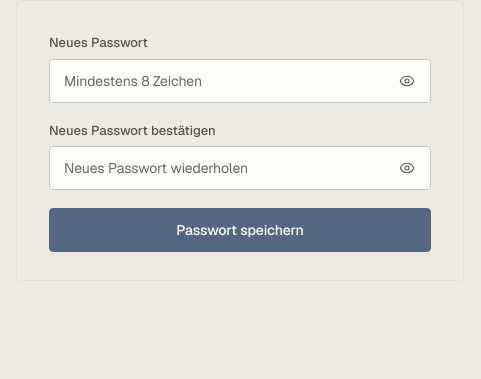
Scenario: ResetPasswordForm › maps invalid or expired tokens to a neutral message
The width and height of the screenshot is (481, 379).
Type "Secure123!" into the password field labelled "Neues Passwort". click: (240, 80)
box: [49,58,431,102]
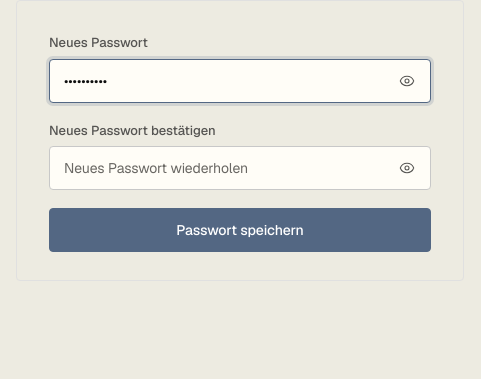
Type "Secure123!" into the password field labelled "Neues Passwort bestätigen". click: (240, 168)
box: [49,146,431,190]
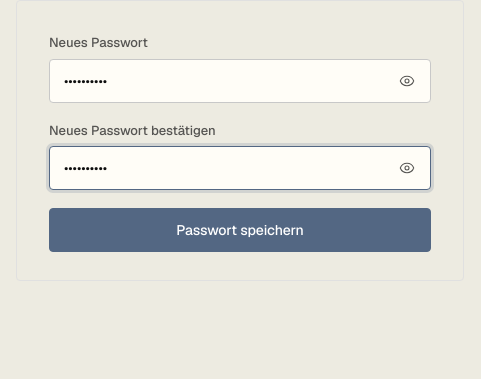
Click the button "Passwort speichern". click: (240, 230)
box: [49,208,431,252]
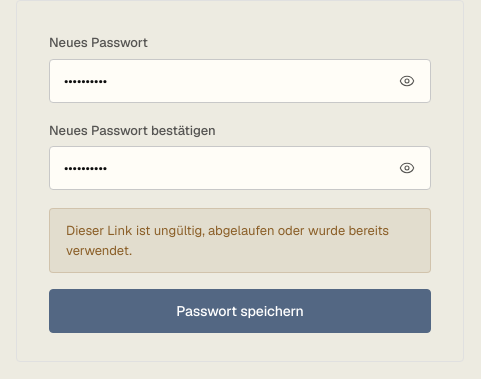
Expected: the message reads "Dieser Link ist ungültig, abgelaufen oder wurde bereits verwendet.", [66,222,389,258]
